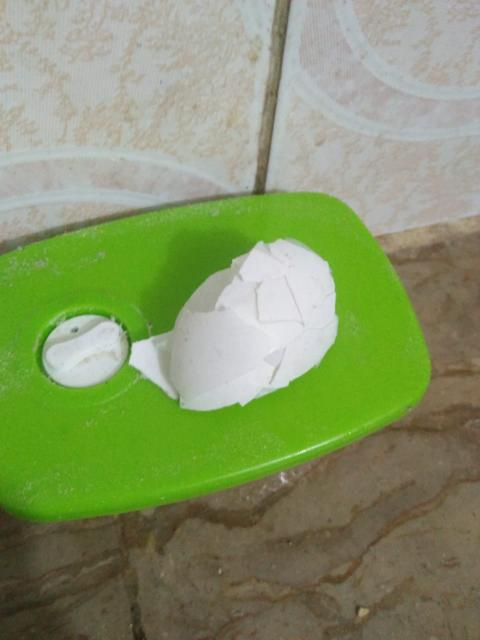Roto: (128, 236, 339, 412)
